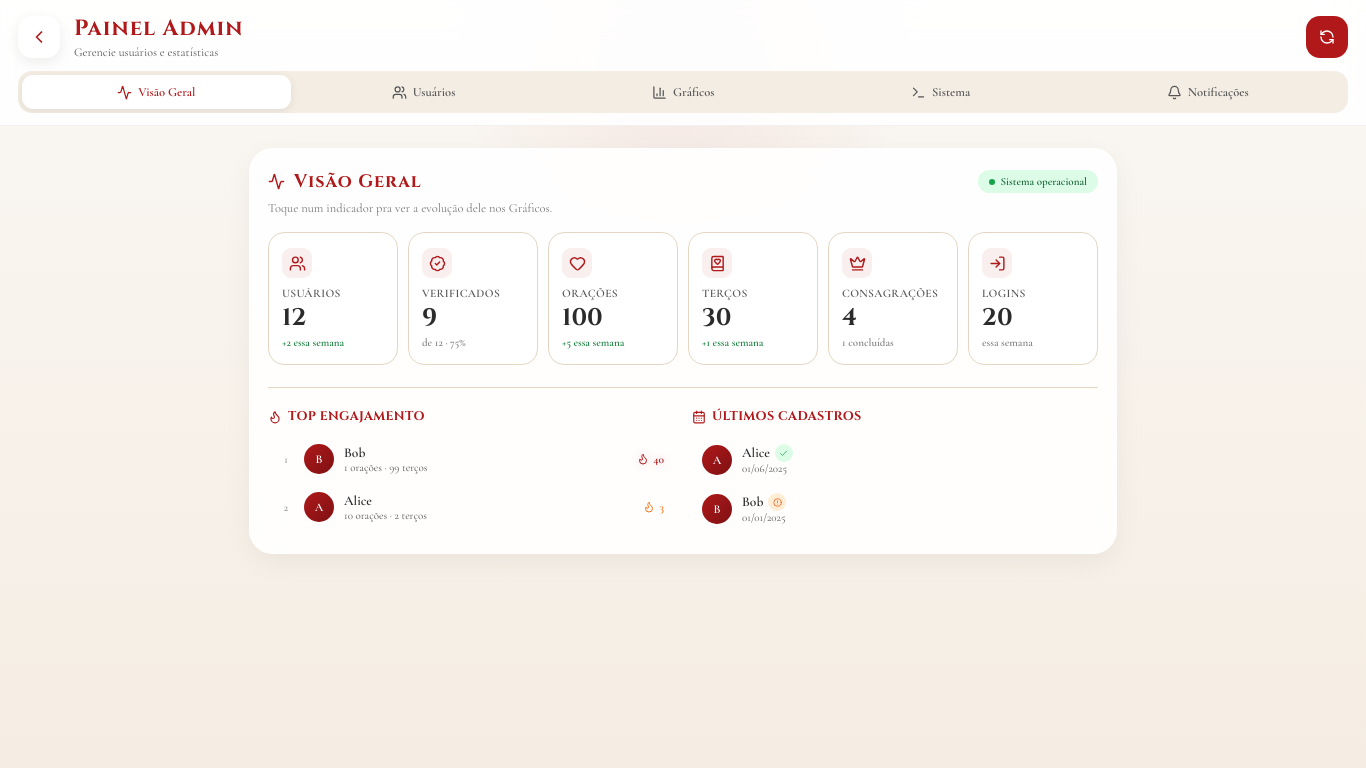
Test: AdminPanel › opens the detail modal with the user's activity
The image size is (1366, 768).
Expected: the heading "Visão Geral" is shown, [294,169,422,194]
Click the button "Usuários" at [424, 92], box [296,75,551,109]
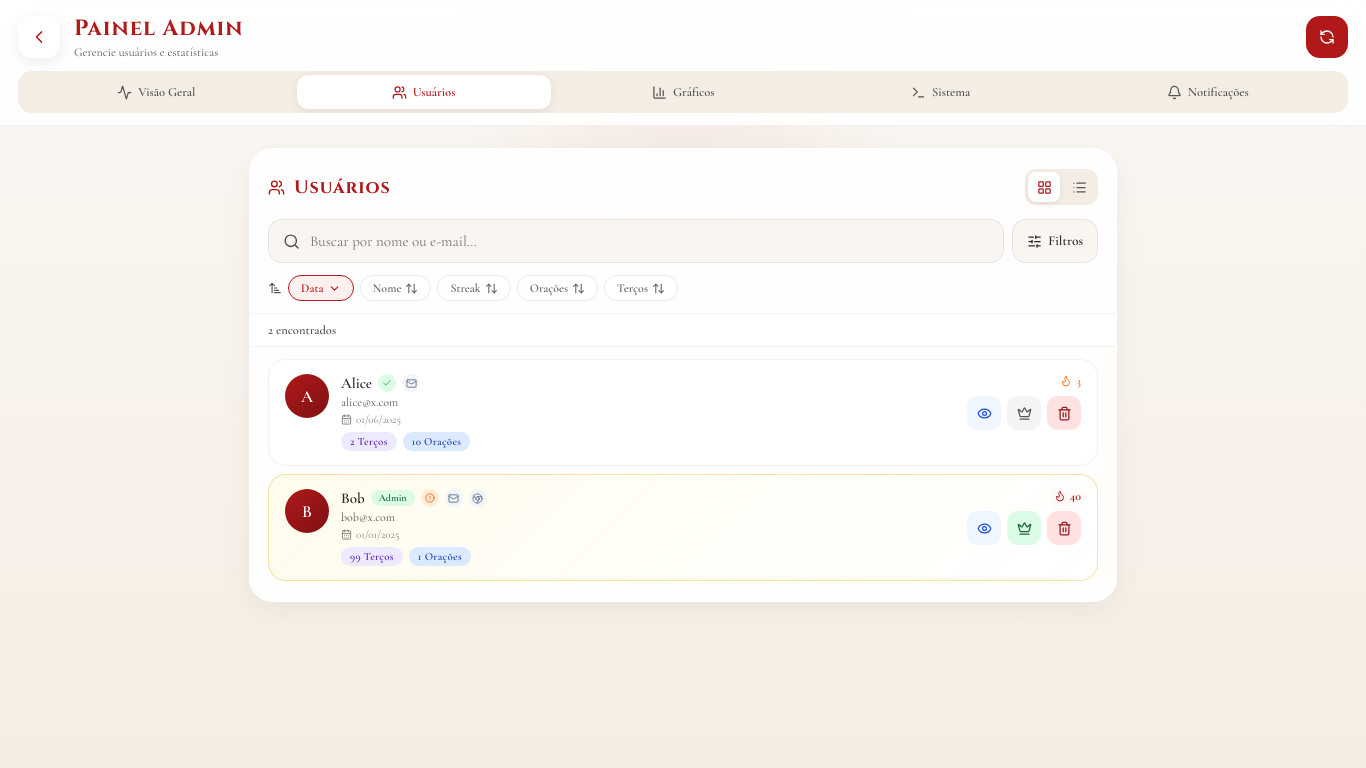
Expected: the text "Alice" is shown, [341,374,372,392]
Click the button titled "Ver detalhes" in the row of "01/06/2025" at [984, 413], box [967,396,1001,430]
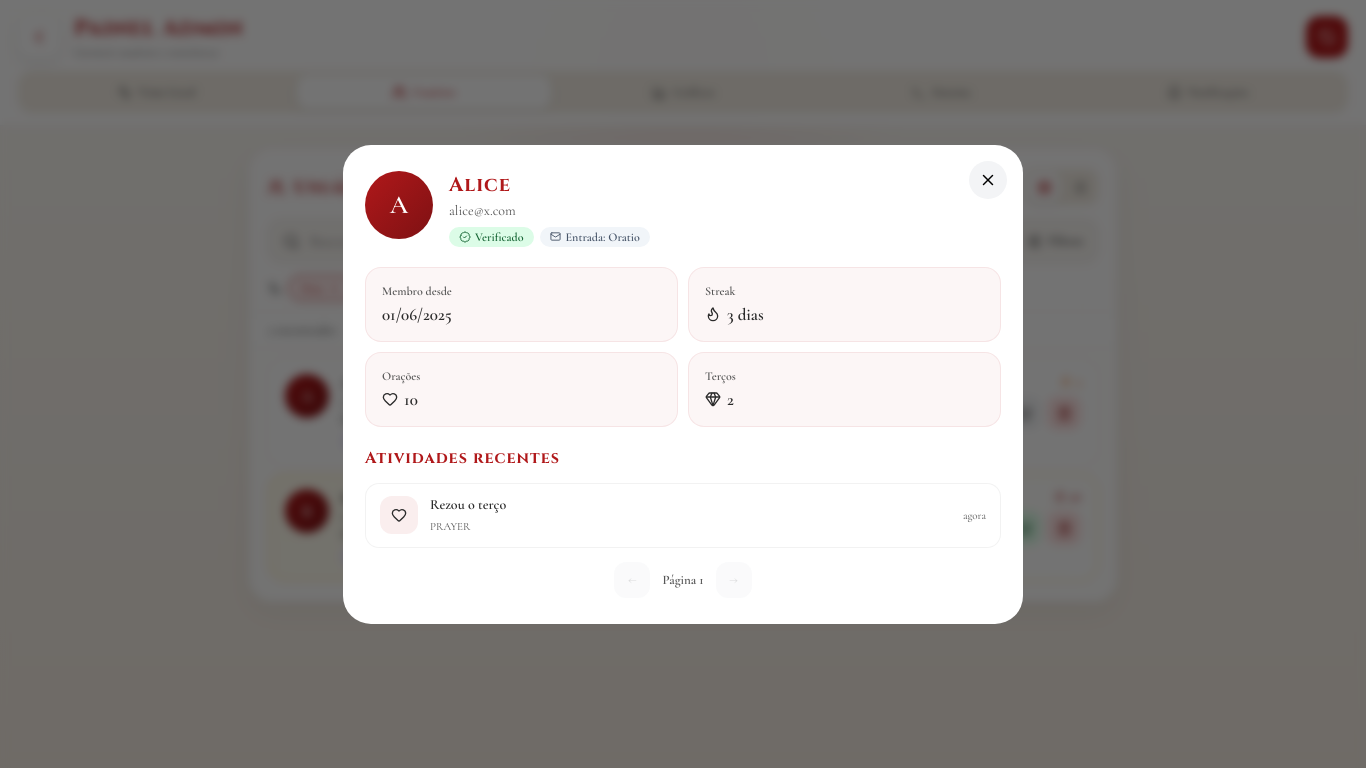
Now the heading "Atividades recentes" is shown, box [365,446,560,468]
Now the text "Rezou o terço" is shown, box [430,496,506,512]
Now the text "Entrada: Oratio" is shown, box [540,226,650,246]
